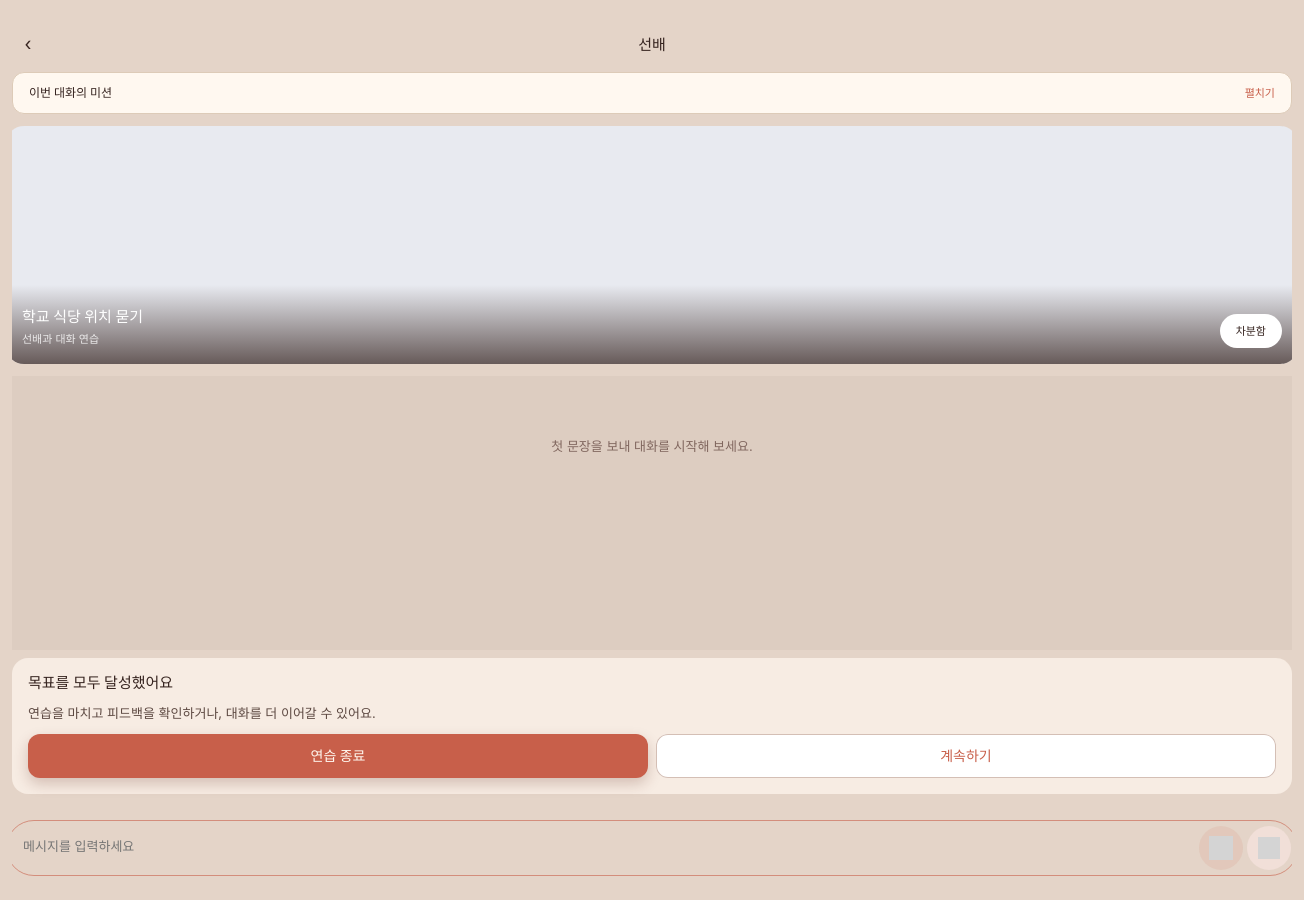
it: 계속하기를 누르면 잠금이 풀린다
Type "더 물어볼게요" into the text box named "내 답변" at (607,848), box left=19, top=826, right=1195, bottom=870
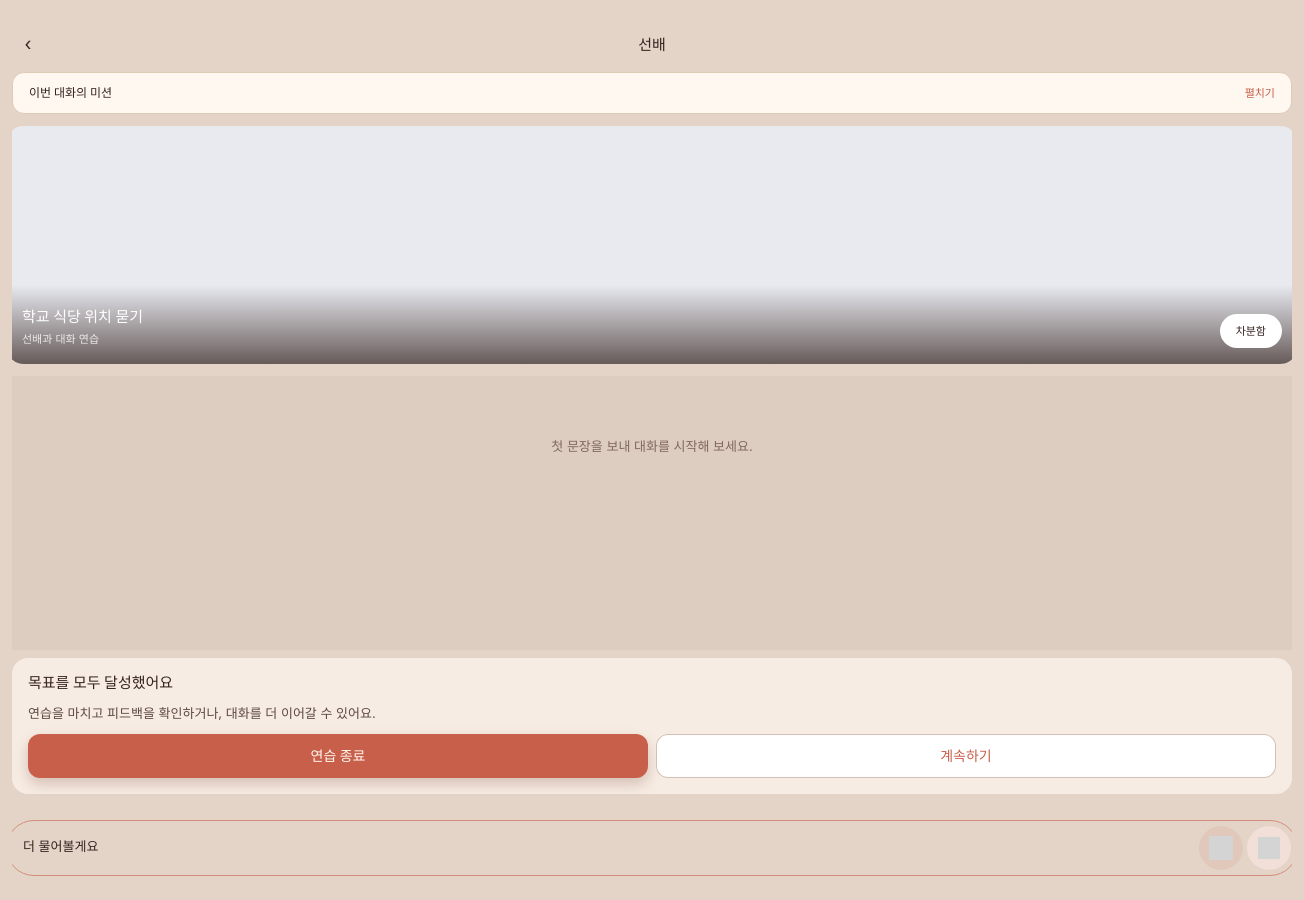
Click the button "계속하기" at (966,756), box left=656, top=734, right=1276, bottom=778
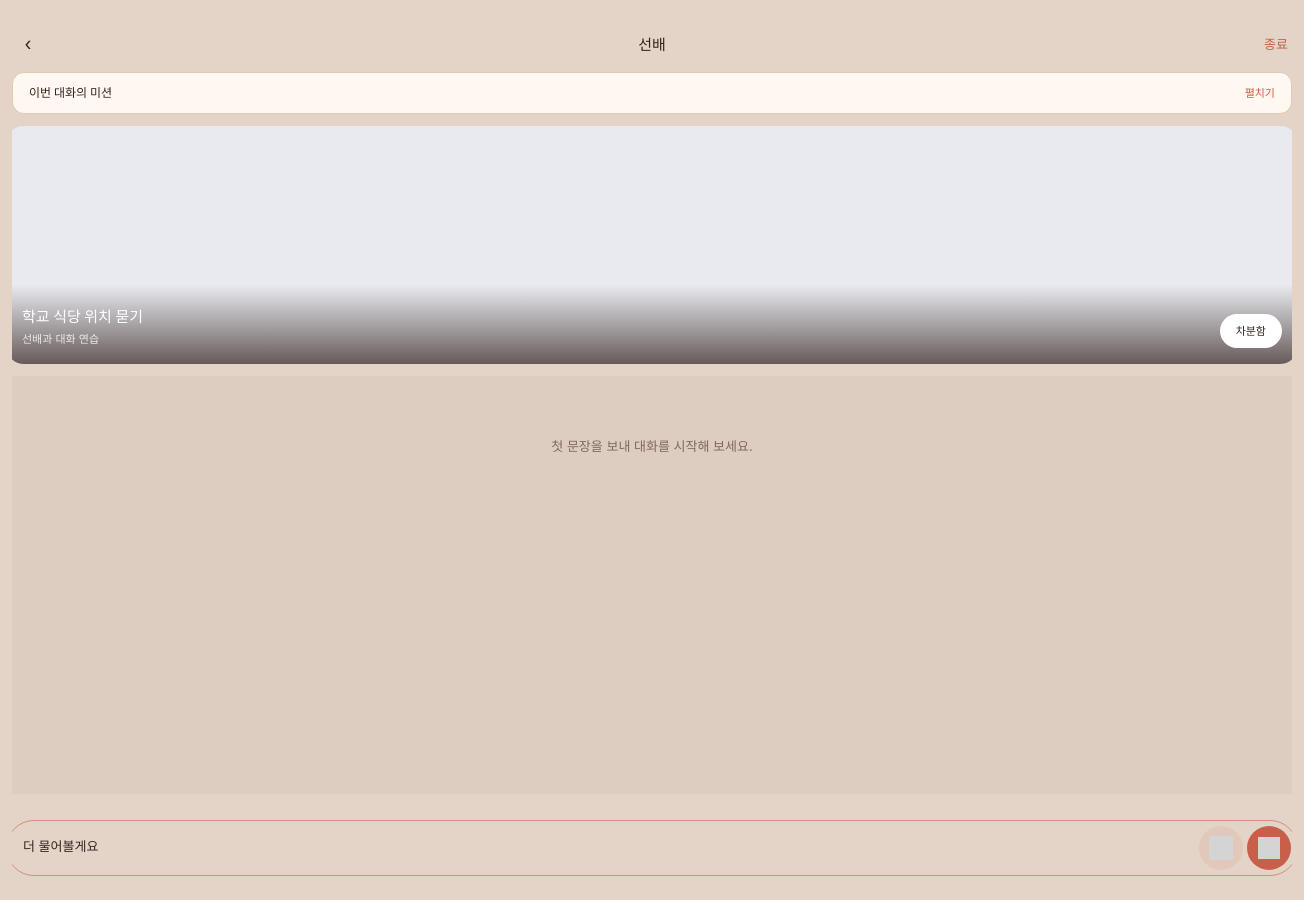
Expected: the text "목표를 모두 달성했어요" is gone
Expected: the button named "보내기" is enabled, left=1247, top=826, right=1291, bottom=870
